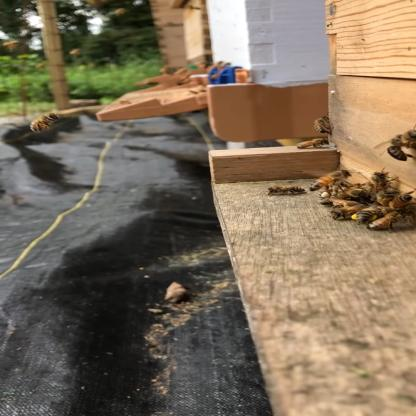bee: (258, 158, 416, 243), (316, 169, 406, 232), (279, 105, 339, 152), (294, 163, 355, 200), (18, 103, 70, 136), (379, 122, 416, 168), (263, 180, 308, 200)
